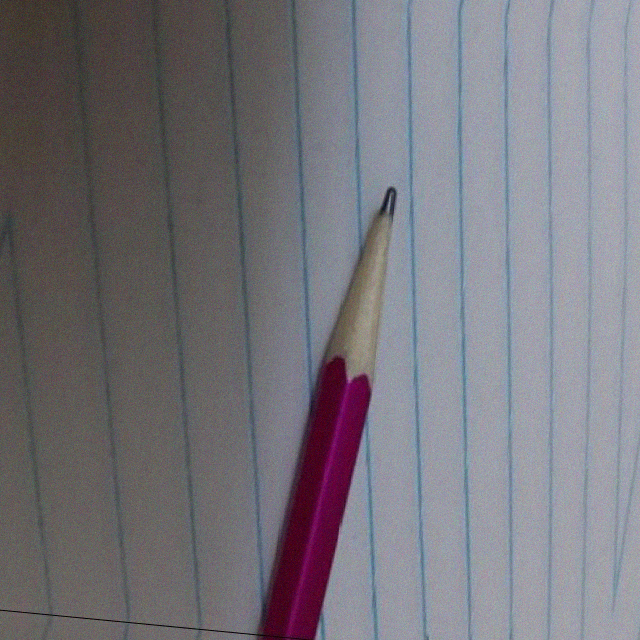pencil: (321, 174, 421, 393)
